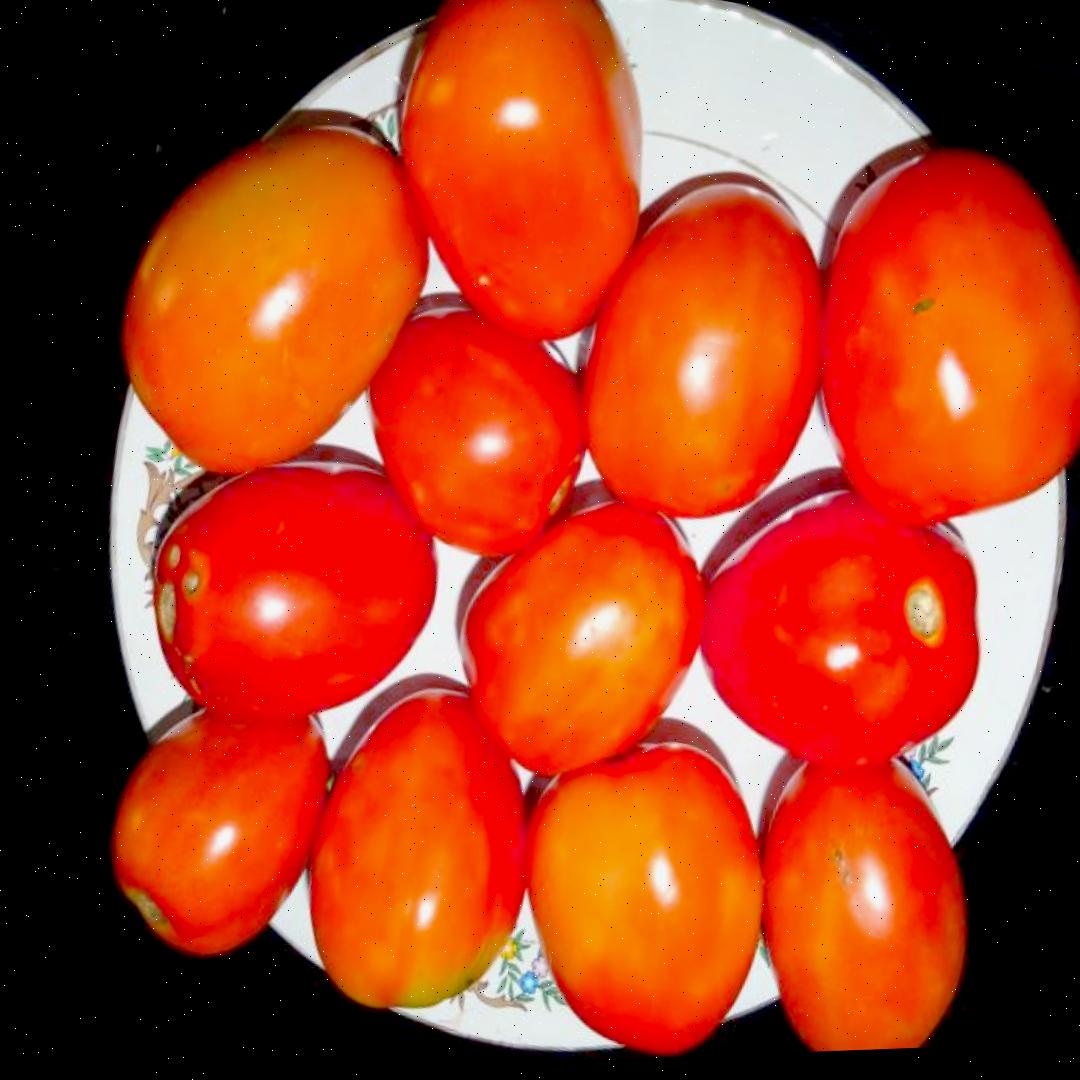matang: (87, 85, 464, 513), (773, 121, 1080, 565), (547, 153, 867, 547), (349, 0, 694, 364), (665, 459, 1015, 801), (116, 422, 465, 756), (480, 711, 800, 1063), (275, 663, 571, 1035), (425, 461, 736, 805), (717, 721, 1007, 1055), (328, 280, 616, 580), (97, 664, 352, 976)
